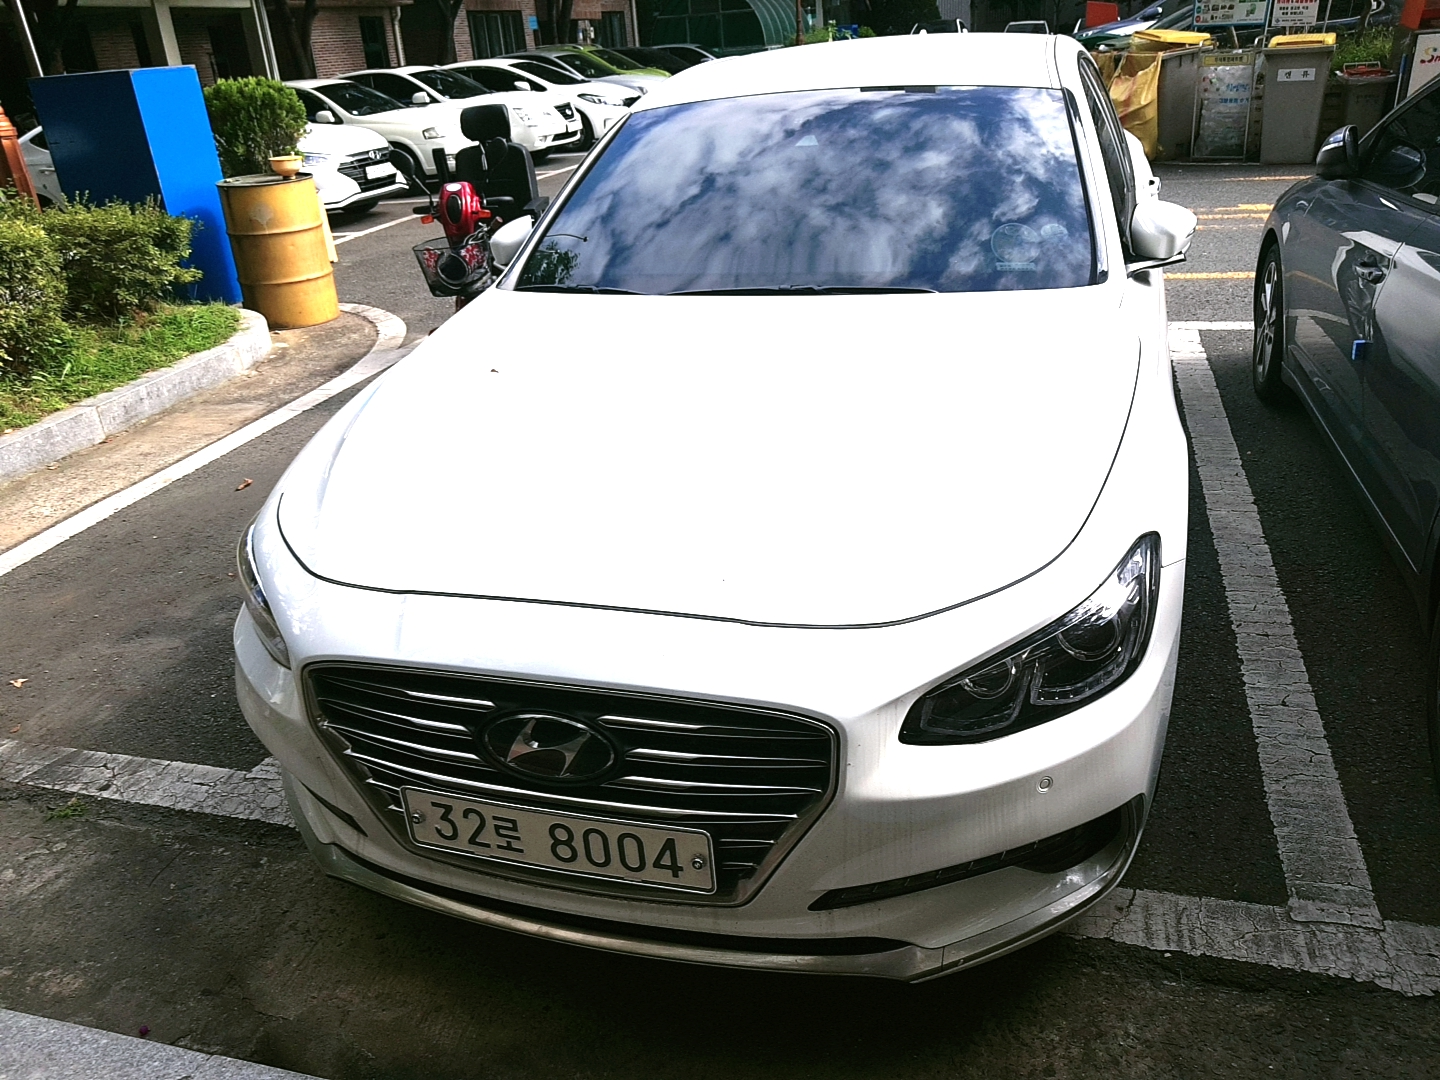apart_parking: (1040, 221, 1075, 248)
disabled_parking: (991, 219, 1043, 264)
